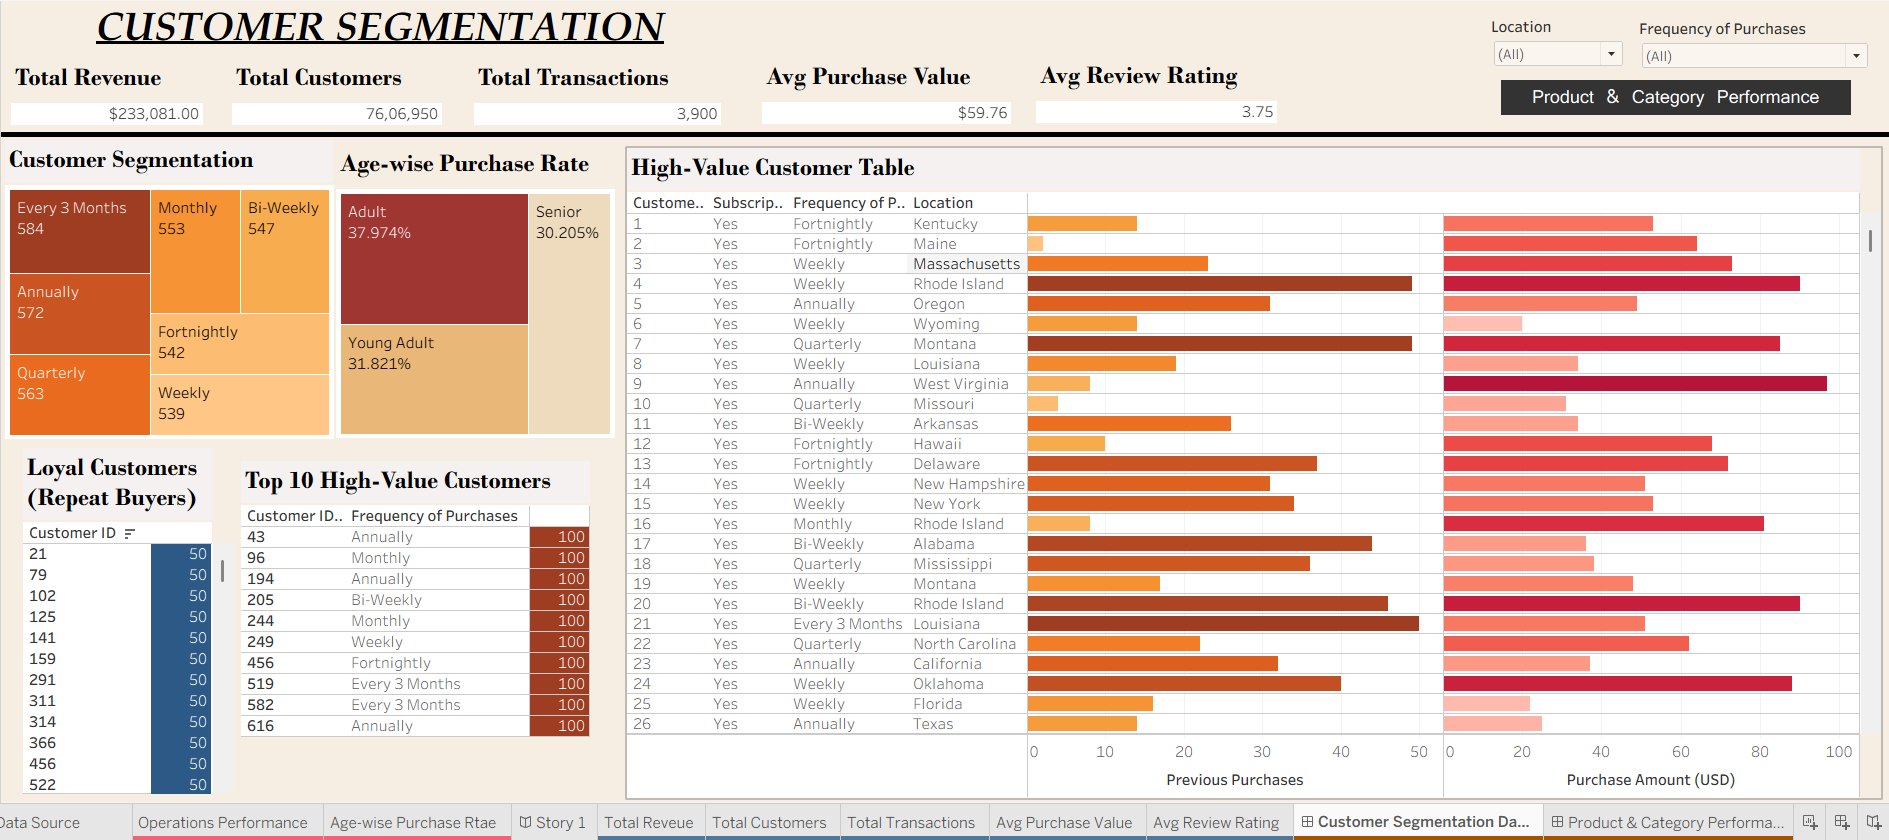

Layout of this report page (visuals, bound fields, positions):
{"tool":"tableau","page":{"name":"Customer Segmentation Dashboard","canvas":[1000,1000],"units":"permille","ordinal":0},"visuals":[{"type":"text","box":[4.2,5,394.2,56.2]},{"type":"filter","title":"High-Value Customer Table","param":"[federated.1p8sqk91qwhg50152f4av16mblpr].[none:Location:nk]","box":[789.2,18.7,71.5,82.4]},{"type":"filter","title":"Customer Segmentation","param":"[federated.1p8sqk91qwhg50152f4av16mblpr].[none:Frequency of Purchases:nk]","box":[867.4,21.2,122.8,89.9]},{"type":"worksheet","title":"Avg Review Rating","mark":"Automatic","box":[548,68.7,127.7,91.1]},{"type":"worksheet","title":"Avg Purchase Value","mark":"Automatic","box":[403.2,69.9,131.9,88.6]},{"type":"worksheet","title":"Total Reveue","mark":"Automatic","box":[5.4,71.2,101.6,88.6]},{"type":"worksheet","title":"Total Customers","mark":"Text","box":[122.2,71.2,111.2,89.9]},{"type":"worksheet","title":"Total Transactions","mark":"Automatic","box":[250.5,71.2,130.7,93.6]},{"type":"dashboard-object","box":[794.4,98.6,185.6,43.7]},{"type":"worksheet","title":"Customer Segmentation","mark":"Automatic","box":[2.1,173.5,175.3,373.3]},{"type":"worksheet","title":"Age-wise Purchase Rtae","mark":"Automatic","box":[177.4,178.5,150.4,367]},{"type":"worksheet","title":"High-Value Customer Table","mark":"Bar","rows":["Customer ID","Subscription Status","Frequency of Purchases","Location"],"cols":["Previous Purchases","Purchase Amount (USD)"],"box":[331.6,183.5,664.2,811.5]},{"type":"worksheet","title":"Loyal Customers (Repeat Buyers)","mark":"Square","rows":["Customer ID"],"box":[11.7,558.1,111.8,432]},{"type":"worksheet","title":"Top 10 high-value customers","mark":"Square","rows":["Frequency of Purchases"],"box":[127.1,574.3,185.9,355.8]}]}

Visuals, with their boxes on the dashboard's canvas, which has no fixed pixel size, in thousandths of its width and height (x1, y1, x2, y2). These are canvas units, not pixel positions in the 1889x840 screenshot, which may show the page scaled, cropped or inside an application window:
text: region(4, 5, 398, 61)
"High-Value Customer Table" filter: region(789, 19, 861, 101)
"Customer Segmentation" filter: region(867, 21, 990, 111)
"Avg Review Rating" worksheet: region(548, 69, 676, 160)
"Avg Purchase Value" worksheet: region(403, 70, 535, 158)
"Total Reveue" worksheet: region(5, 71, 107, 160)
"Total Customers" worksheet (Text marks): region(122, 71, 233, 161)
"Total Transactions" worksheet: region(250, 71, 381, 165)
dashboard-object: region(794, 99, 980, 142)
"Customer Segmentation" worksheet: region(2, 174, 177, 547)
"Age-wise Purchase Rtae" worksheet: region(177, 178, 328, 546)
"High-Value Customer Table" worksheet (Bar marks): region(332, 184, 996, 995)
"Loyal Customers (Repeat Buyers)" worksheet (Square marks): region(12, 558, 124, 990)
"Top 10 high-value customers" worksheet (Square marks): region(127, 574, 313, 930)
